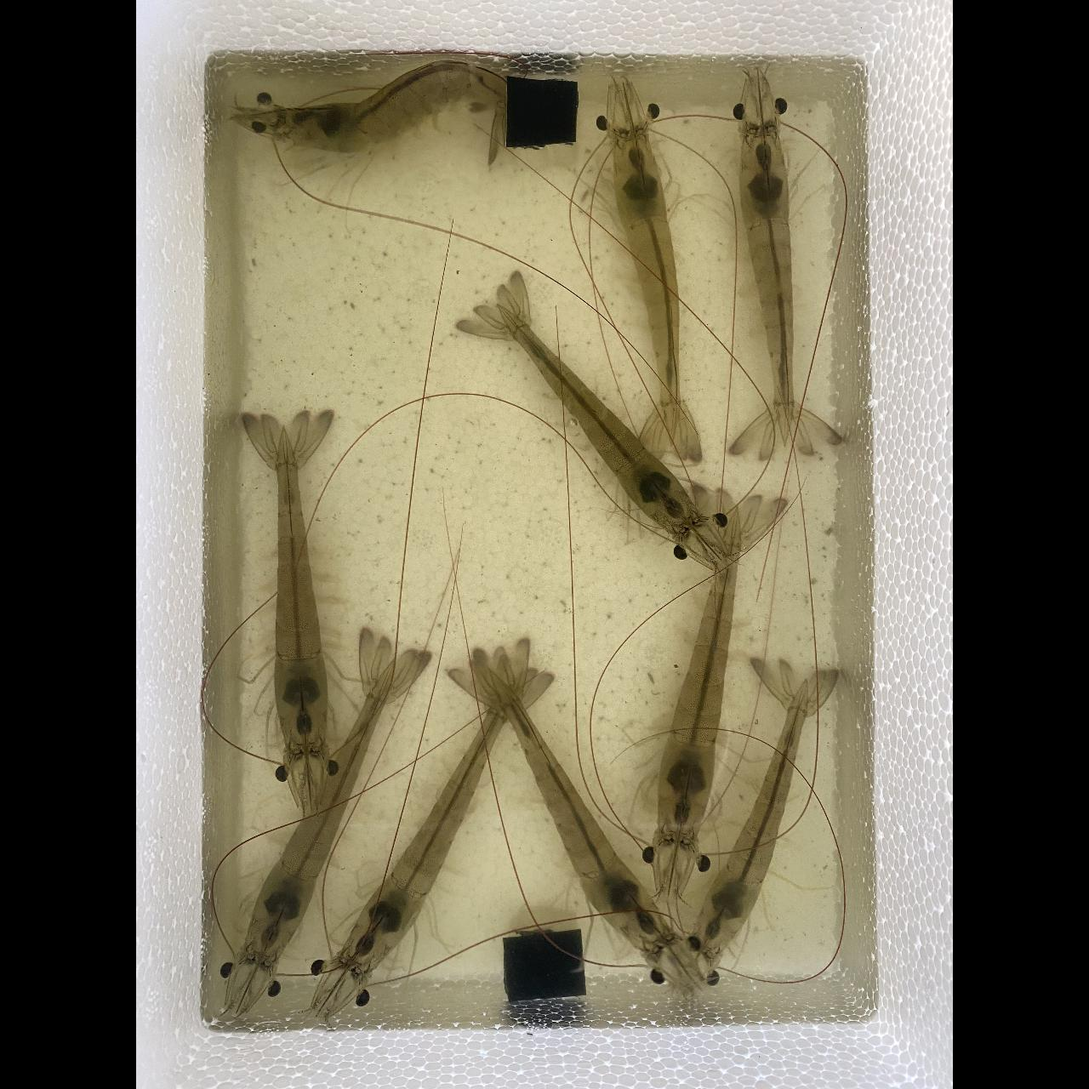box: (503, 929, 586, 1003), (506, 76, 579, 148)
side_shrimp: (270, 60, 511, 150)
top_shrimp: (337, 683, 520, 976), (488, 665, 665, 955), (241, 655, 398, 969), (495, 304, 696, 531), (690, 680, 809, 958), (655, 507, 741, 840), (613, 133, 681, 439), (275, 420, 328, 755), (740, 128, 796, 443)
